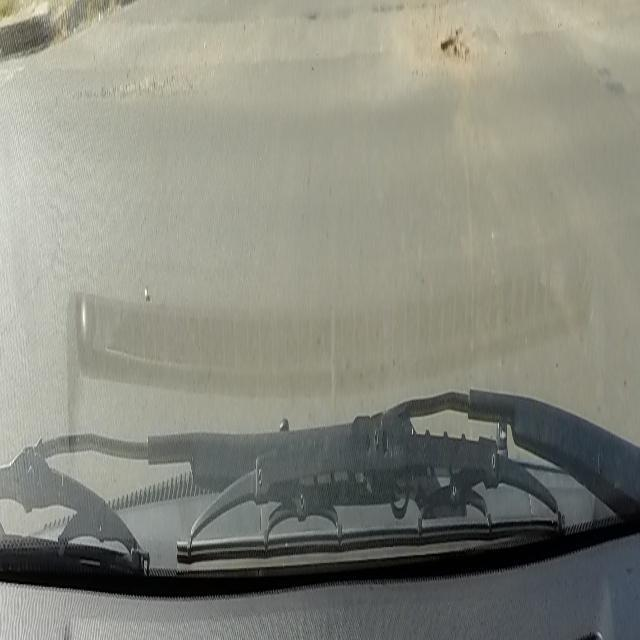pothole: (440, 24, 469, 64)
